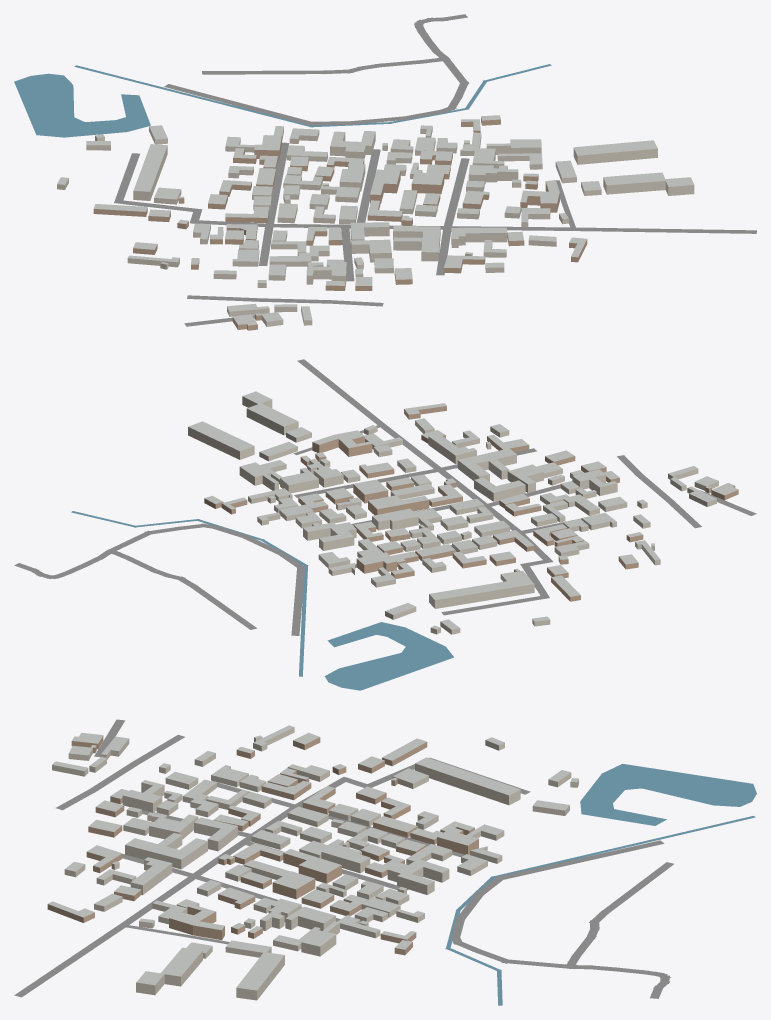
The model's file is bolak_-8_-11.glb.
3 views of the same model, one above another, from view 1: azimuth 30°, elevation 25°; view 2: azimuth 150°, elevation 25°; view 3: azimuth 270°, elevation 25° (orthographic). The views are drawn at different scales.
Parts seen in each view (by area): view 1: Tom_Shifer, Devor_Suvoq-col, Yol_Mahalla, Suv, Devor_Gisht-col; view 2: Tom_Shifer, Devor_Suvoq-col, Yol_Mahalla, Devor_Gisht-col, Suv; view 3: Tom_Shifer, Devor_Suvoq-col, Yol_Mahalla, Devor_Gisht-col, Suv.
Part boxes in pixels (x1,y1,x2,y2): Tom_Shifer: (57,115,694,325); Devor_Suvoq-col: (57,126,694,326); Yol_Mahalla: (114,14,756,326); Suv: (14,64,551,137); Devor_Gisht-col: (93,117,587,330); Tom_Shifer: (188,391,738,629); Devor_Suvoq-col: (188,396,718,634); Yol_Mahalla: (14,359,756,635); Devor_Gisht-col: (204,406,738,601); Suv: (71,511,453,690); Tom_Shifer: (48,725,578,990); Devor_Suvoq-col: (52,727,578,1000); Yol_Mahalla: (14,719,673,998); Devor_Gisht-col: (47,736,478,955); Suv: (445,763,756,1005).
Size of the model in its own units: 444 by 7.2 by 488.
